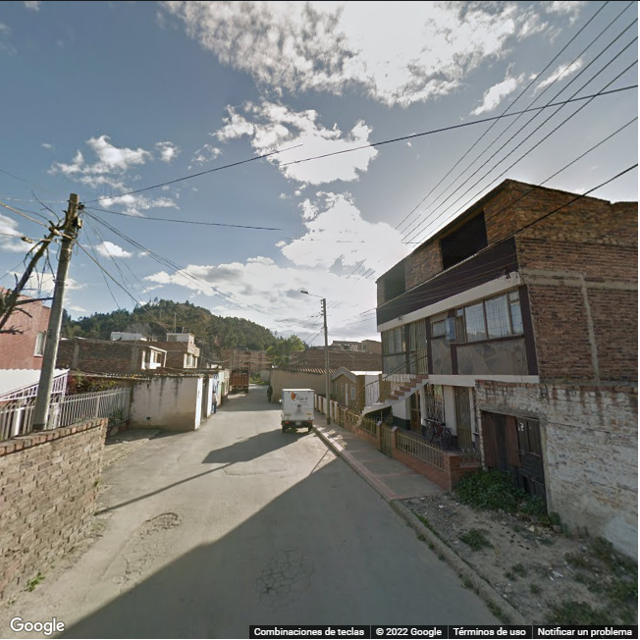D00: (98, 525, 139, 580)
D20: (251, 543, 317, 608)
D40: (149, 508, 179, 534)
